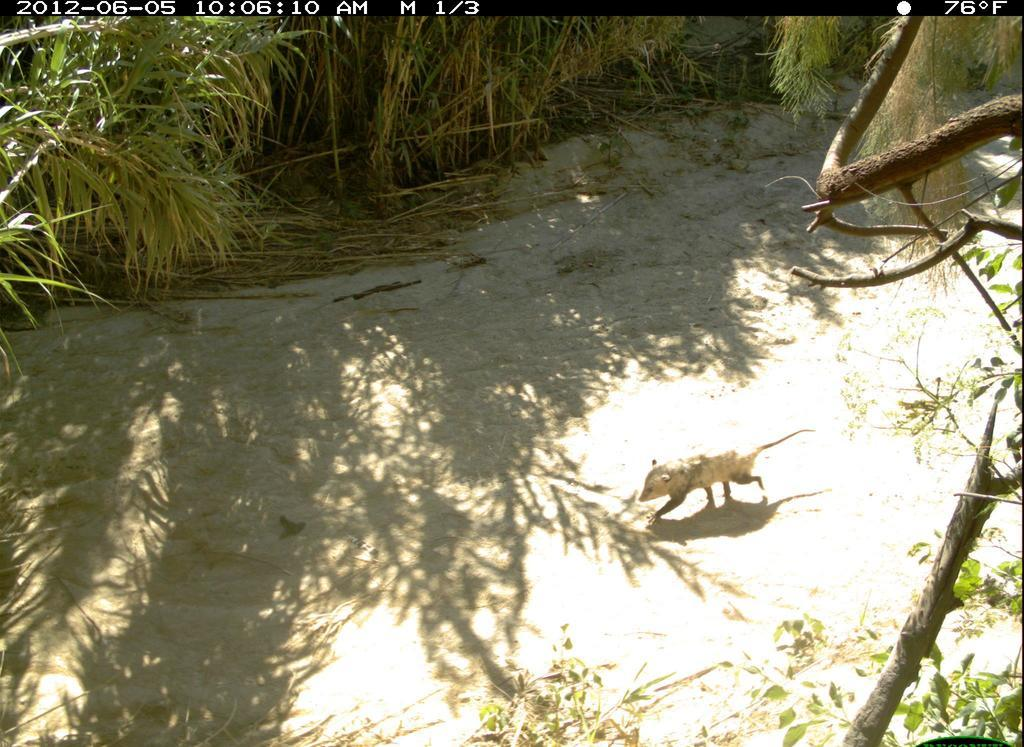opossum: (637, 425, 817, 532)
